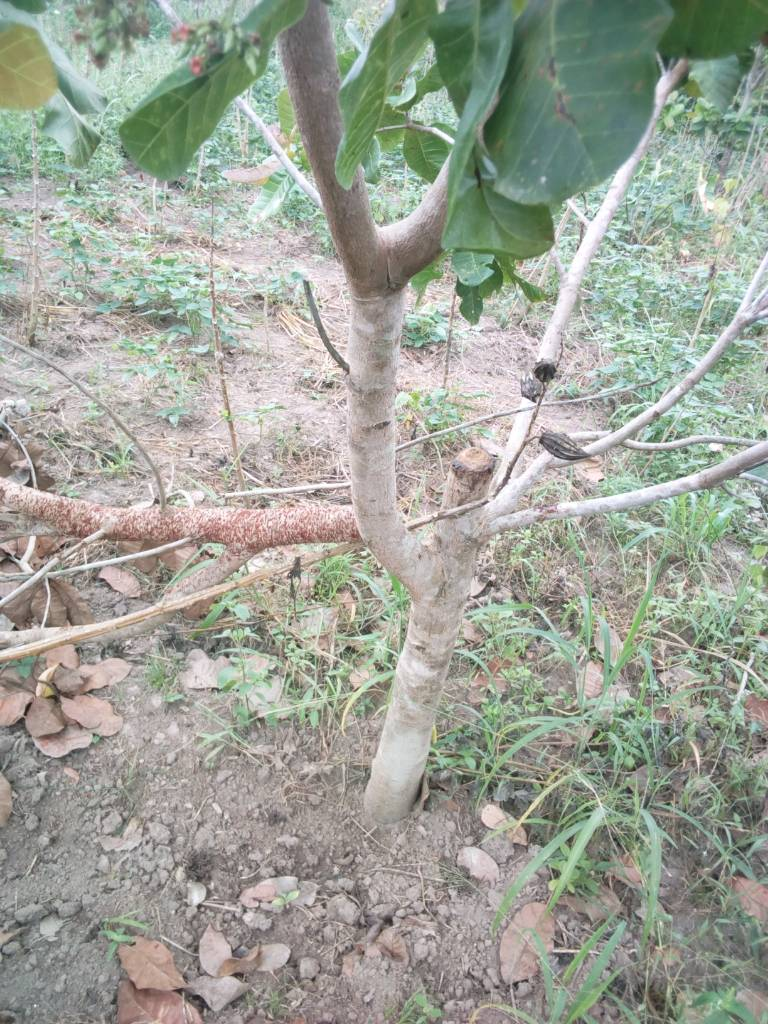Analepse trifasciata: (436, 433, 519, 502)
